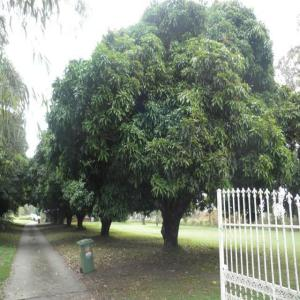Tree: (140, 0, 282, 250), (42, 20, 160, 248)
